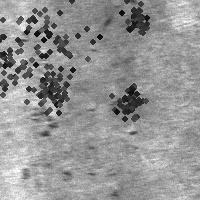rolled-in_scale: (0, 0, 101, 96), (20, 28, 68, 182), (0, 19, 44, 105), (22, 61, 78, 117), (97, 85, 147, 140), (106, 81, 148, 123), (116, 0, 156, 34)
